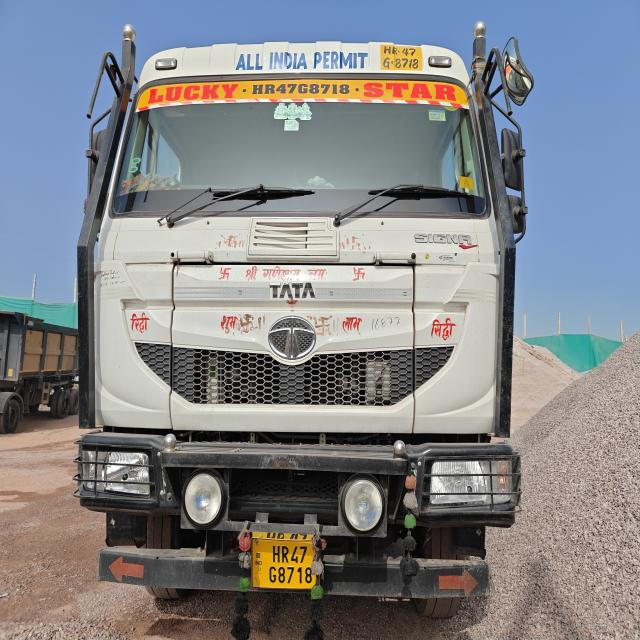license_plate: (252, 533, 315, 589)
